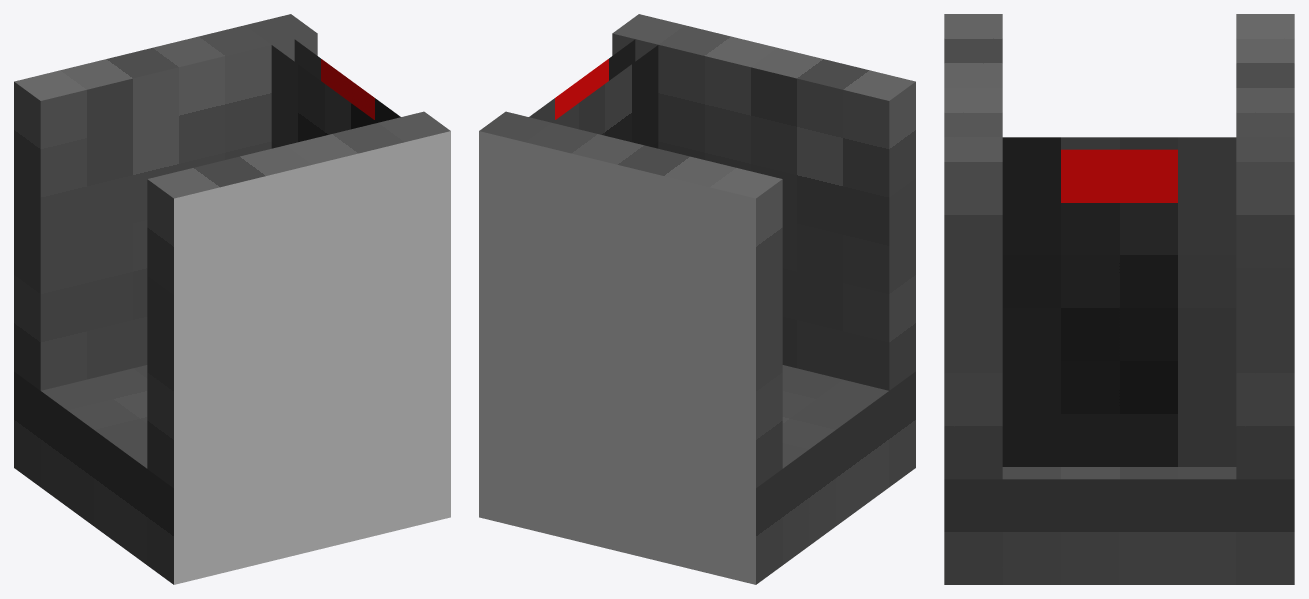
File: foundry_slagtap.obj
3 renders of one model, left to right at view 1: azimuth 30°, elevation 25°; view 2: azimuth 150°, elevation 25°; view 3: azimuth 270°, elevation 25°, orthographic. The views are drawn at different scales.
Parts seen in each view (by area): view 1: wall2, wall1, bot, redstone, filter; view 2: wall1, wall2, bot, redstone, filter; view 3: filter, bot, wall1, wall2, redstone.
Part boxes in pixels (x1,y1,x2,y2): wall2: (147,111,450,488); wall1: (14,14,317,390); bot: (14,365,450,584); redstone: (271,45,377,148); filter: (294,39,400,122); wall1: (479,111,782,488); wall2: (612,14,915,390); bot: (479,365,915,584); redstone: (552,45,658,148); filter: (529,39,635,122); filter: (1002,149,1236,466); bot: (944,467,1294,584); wall1: (1236,14,1294,479); wall2: (944,14,1002,479); redstone: (1002,137,1236,149).
Bounding box in the file's own units: 0.375 × 0.5 × 0.375.
